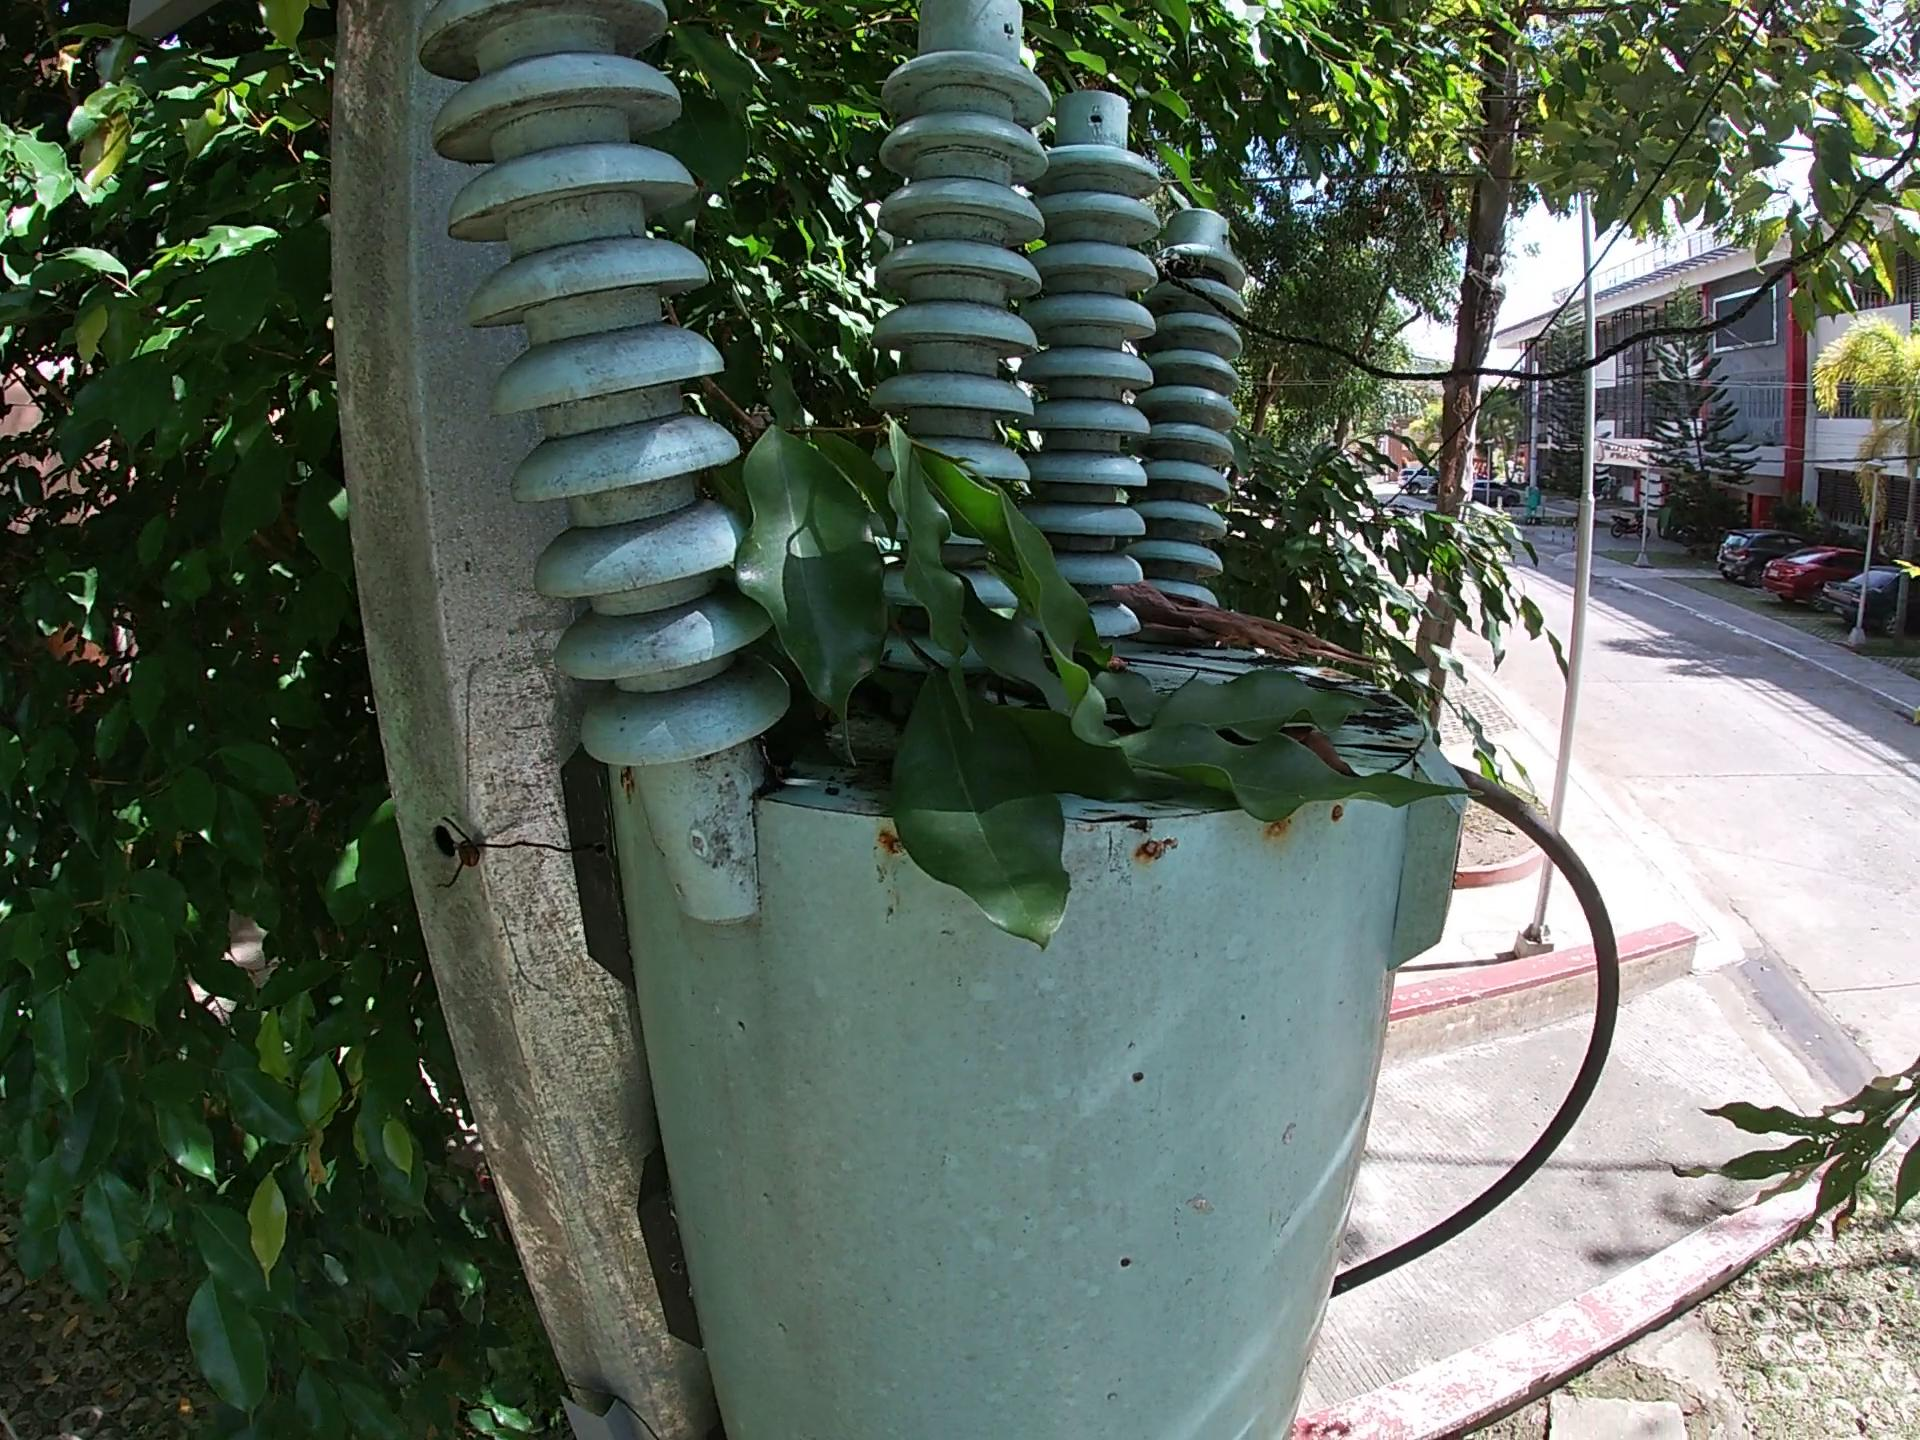branch with leaves: (698, 386, 1492, 938)
mahogany fruit: (1296, 717, 1364, 771)
tree branch: (1114, 585, 1400, 678), (1113, 655, 1237, 675)
